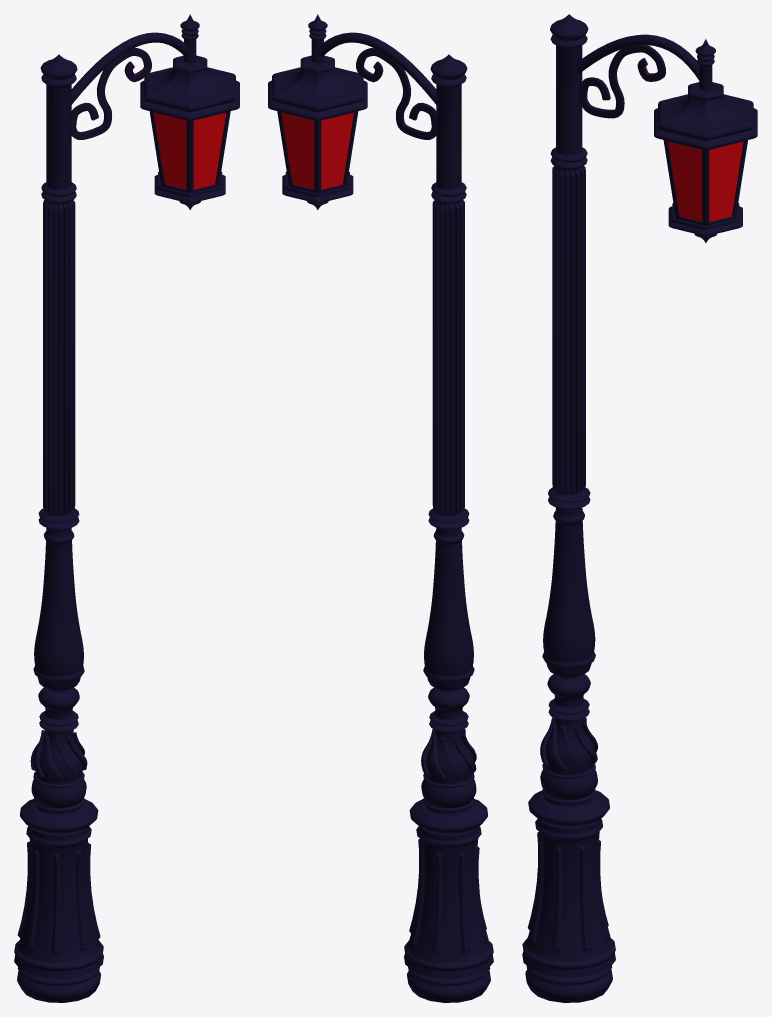
Rendered from farola.fbx.
3 renders of one model, left to right at view 1: azimuth 30°, elevation 25°; view 2: azimuth 150°, elevation 25°; view 3: azimuth 330°, elevation 25°, orthographic. The views are drawn at different scales.
Visible parts, largest first — view 1: classic single light pole 001; view 2: classic single light pole 001; view 3: classic single light pole 001.
Boxes of the visible parts, box(x1,y1,x2,y2) form: classic single light pole 001: box(14, 14, 239, 1002); classic single light pole 001: box(268, 14, 493, 1002); classic single light pole 001: box(522, 14, 757, 1002).
Bounding box in the file's own units: 101 × 412 × 39.43.
